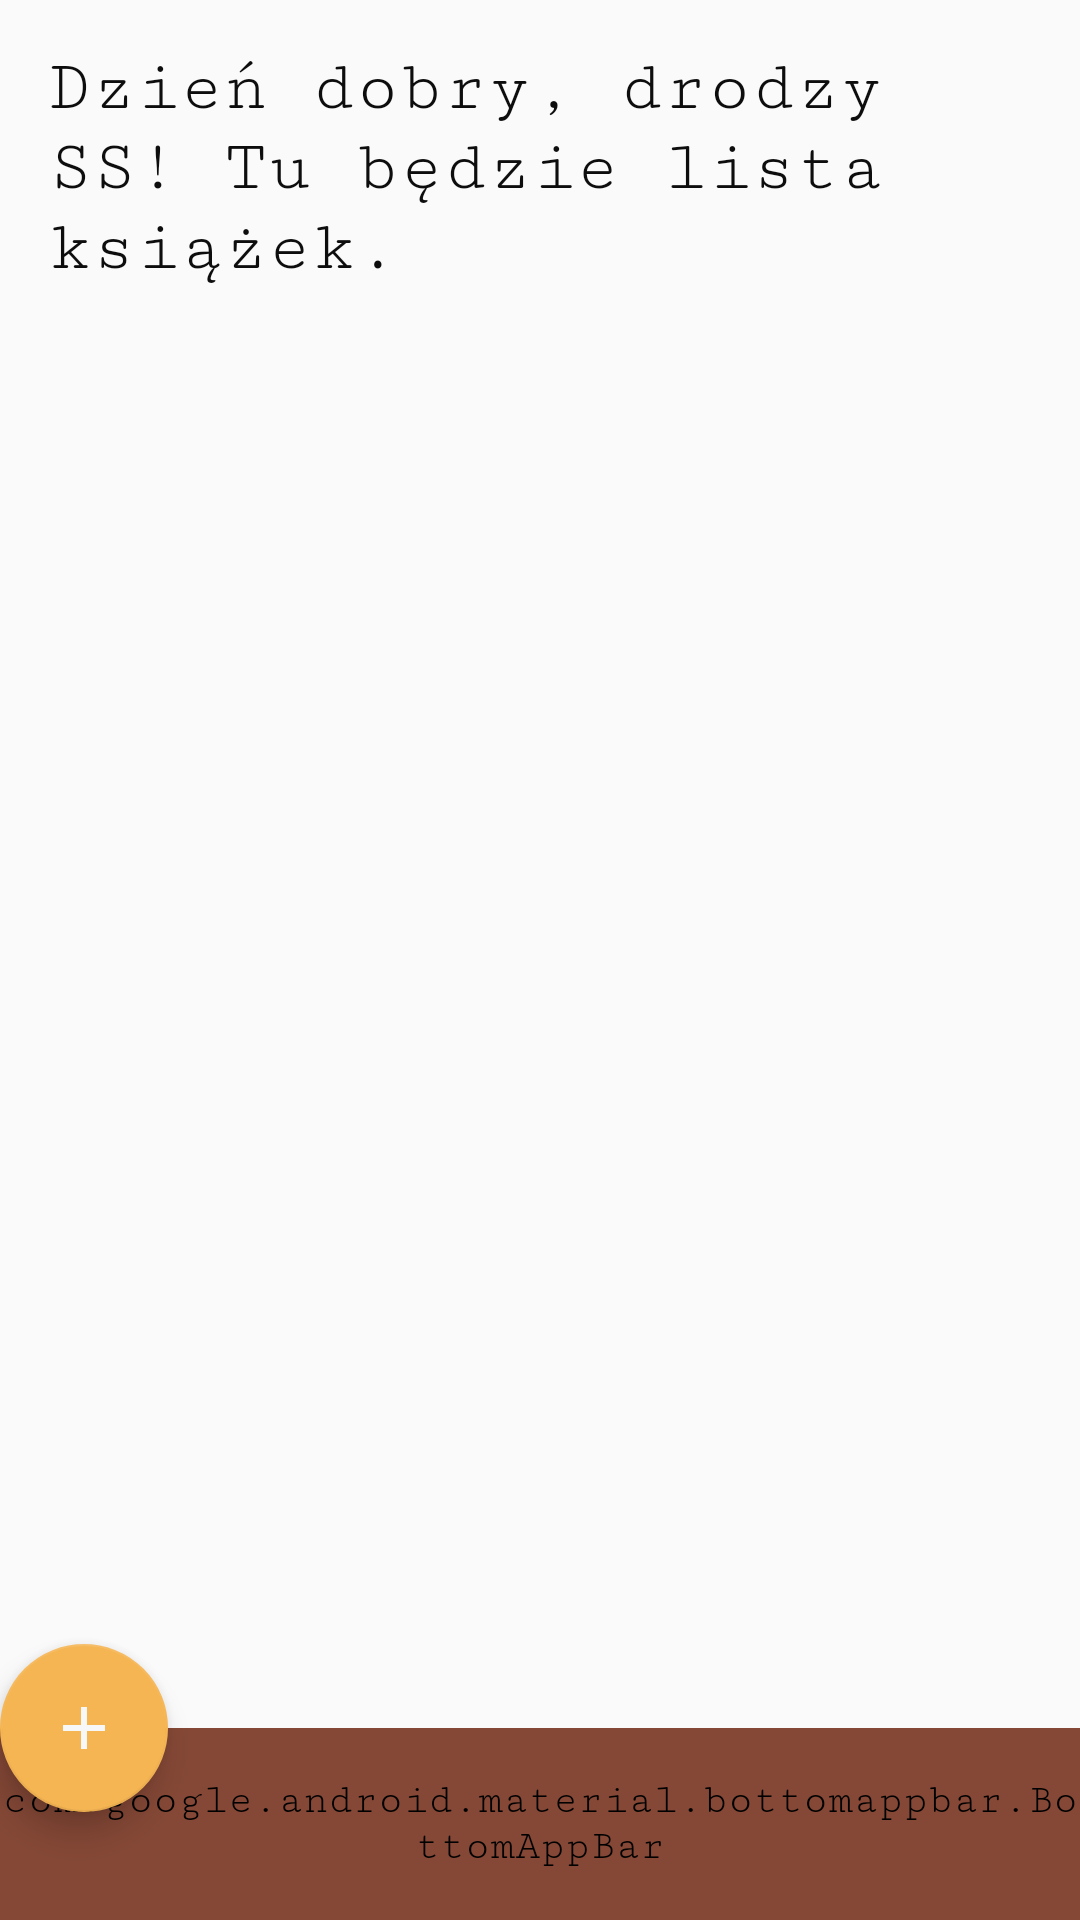

Icon click points for this 1080px x 1920px phone screenshot, format (x,y):
add: (84,1728)
